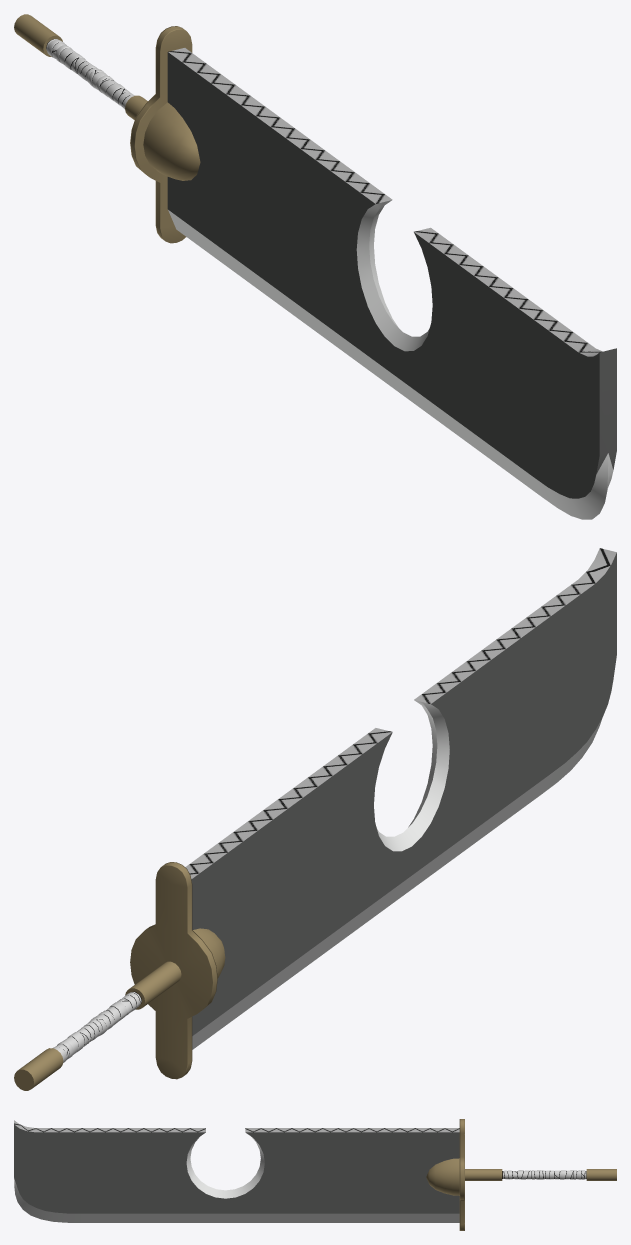
The model's file is BigSword.fbx.
3 views of the same model, one above another, from view 1: azimuth 30°, elevation 25°; view 2: azimuth 150°, elevation 25°; view 3: azimuth 270°, elevation 25° (orthographic). The views are drawn at different scales.
Visible parts, largest first — view 1: SM_WEP_BigSword; view 2: SM_WEP_BigSword; view 3: SM_WEP_BigSword.
Boxes of the visible parts, x1,y1,x2,y2 form: SM_WEP_BigSword: (14,14,616,519); SM_WEP_BigSword: (14,548,616,1090); SM_WEP_BigSword: (14,1119,616,1230).
Size of the model in its own units: 14.45 by 35.52 by 177.
